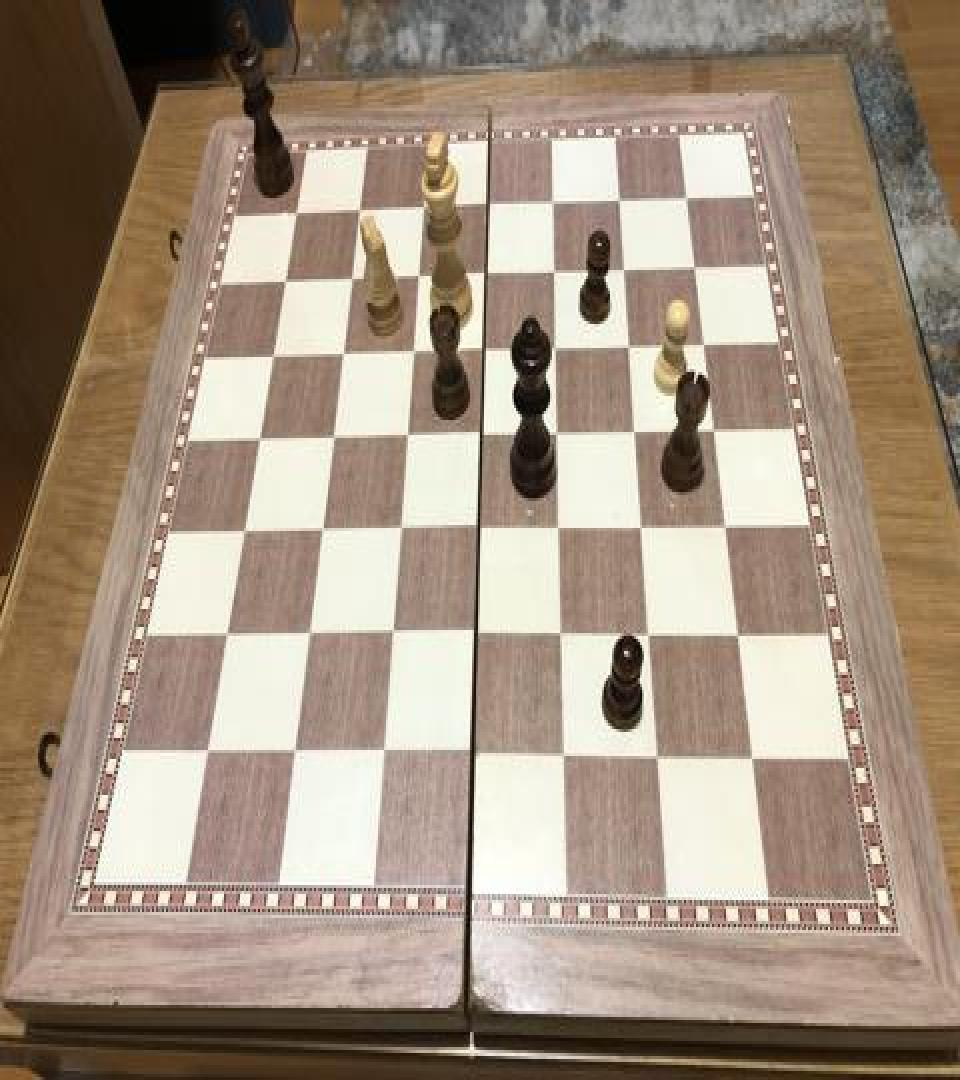xcorner: (231, 514, 255, 551), (462, 616, 486, 653), (377, 616, 401, 653), (295, 616, 319, 653), (671, 178, 695, 214), (604, 182, 628, 218), (538, 184, 562, 220), (473, 189, 497, 225), (409, 192, 433, 228), (346, 195, 370, 231), (284, 200, 308, 236), (679, 248, 703, 284), (609, 250, 633, 286), (540, 254, 564, 290), (471, 256, 495, 292), (338, 262, 362, 298), (272, 266, 296, 302), (689, 324, 713, 360), (614, 327, 638, 363), (541, 330, 565, 366), (469, 332, 493, 368), (398, 334, 422, 370), (329, 338, 353, 374), (260, 340, 284, 376), (699, 410, 723, 446), (621, 411, 645, 447), (543, 414, 567, 450), (467, 416, 491, 452), (392, 418, 416, 454), (319, 420, 343, 456), (246, 423, 270, 459), (711, 506, 735, 542), (627, 507, 651, 543), (545, 508, 569, 544), (464, 510, 488, 546), (385, 512, 409, 548), (307, 513, 331, 549), (724, 614, 748, 650), (635, 615, 659, 651), (547, 615, 571, 651), (214, 618, 238, 654), (739, 738, 763, 774), (644, 738, 668, 774), (550, 736, 574, 772), (458, 736, 482, 772), (369, 735, 393, 771), (280, 735, 304, 771), (194, 735, 218, 771), (404, 260, 428, 295)
